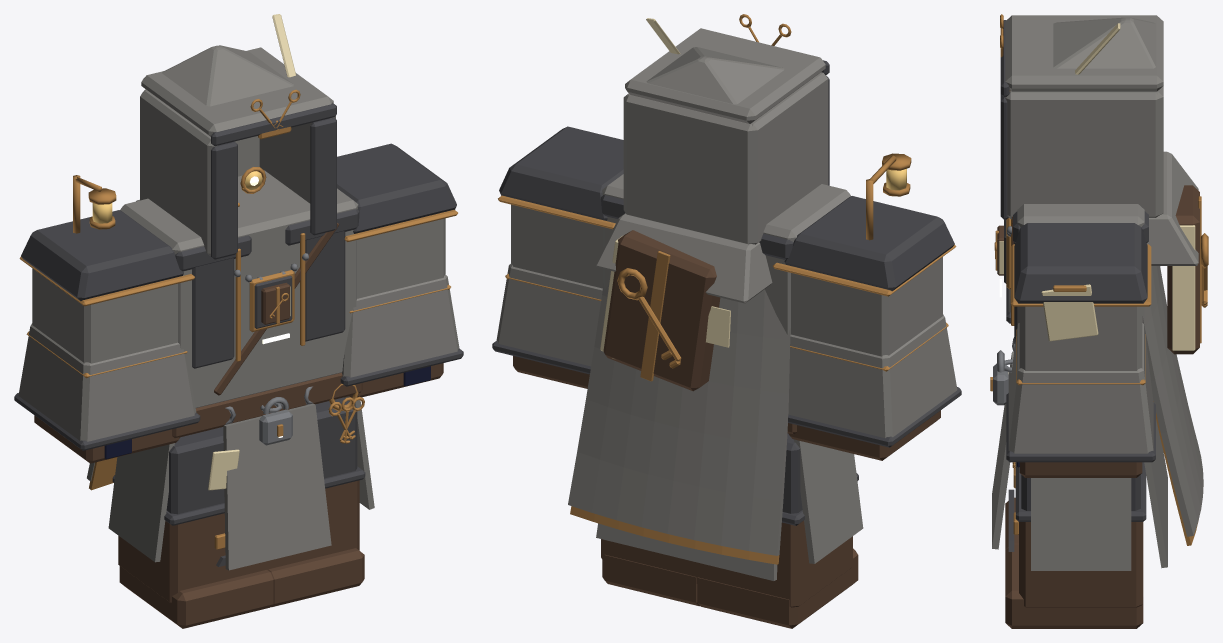
The model's file is Ledgerwarden.fbx.
3 renders of one model, left to right at view 1: azimuth 30°, elevation 25°; view 2: azimuth 150°, elevation 25°; view 3: azimuth 270°, elevation 25°, orthographic. The views are drawn at different scales.
Visible parts, largest first — view 1: Armor_Ledgerwarden_Helm_Ash_Common, Armor_Ledgerwarden_Belt_AshSway_Common, Armor_Ledgerwarden_Chest_Ash_Common, Armor_Ledgerwarden_BracerR_Ash_Common, Armor_Ledgerwarden_Chest_Darkash_Common, Armor_Ledgerwarden_PauldronR_Darkash_Common, Armor_Ledgerwarden_PauldronR_Ash_Common, Armor_Ledgerwarden_BracerL_Ash_Common, Armor_Ledgerwarden_Helm_Darkash_Common, Armor_Ledgerwarden_PauldronL_Darkash_Common, Armor_Ledgerwarden_GreaveR_Leather_Common, Armor_Ledgerwarden_PauldronL_Ash_Common (+22 smaller); view 2: Armor_Ledgerwarden_Helm_Ash_Common, Armor_Ledgerwarden_Chest_AshSway_Common, Armor_Ledgerwarden_BracerR_Ash_Common, Armor_Ledgerwarden_Chest_Leather_Rare, Armor_Ledgerwarden_PauldronR_Darkash_Common, Armor_Ledgerwarden_PauldronR_Ash_Common, Armor_Ledgerwarden_Belt_AshSway_Common, Armor_Ledgerwarden_BracerL_Ash_Common, Armor_Ledgerwarden_PauldronL_Darkash_Common, Armor_Ledgerwarden_PauldronL_Ash_Common, Armor_Ledgerwarden_GreaveR_Leather_Common, Armor_Ledgerwarden_Chest_Ash_Common (+15 smaller); view 3: Armor_Ledgerwarden_Helm_Ash_Common, Armor_Ledgerwarden_Belt_AshSway_Common, Armor_Ledgerwarden_BracerL_Ash_Common, Armor_Ledgerwarden_PauldronL_Darkash_Common, Armor_Ledgerwarden_Chest_AshSway_Common, Armor_Ledgerwarden_PauldronL_Ash_Common, Armor_Ledgerwarden_GreaveL_Leather_Common, Armor_Ledgerwarden_BootL_Leather_Common, Armor_Ledgerwarden_Chest_Ash_Common, Armor_Ledgerwarden_Chest_Parchment_Rare, Armor_Ledgerwarden_PauldronL_Parchment_Rare, Armor_Ledgerwarden_Chest_Leather_Rare (+13 smaller).
Part boxes in pixels (bbox=[...]): Armor_Ledgerwarden_Helm_Ash_Common: bbox=[136, 45, 335, 255]; Armor_Ledgerwarden_Belt_AshSway_Common: bbox=[108, 396, 374, 570]; Armor_Ledgerwarden_Chest_Ash_Common: bbox=[120, 170, 358, 407]; Armor_Ledgerwarden_BracerR_Ash_Common: bbox=[18, 323, 196, 441]; Armor_Ledgerwarden_Chest_Darkash_Common: bbox=[175, 209, 359, 368]; Armor_Ledgerwarden_PauldronR_Darkash_Common: bbox=[21, 210, 183, 301]; Armor_Ledgerwarden_PauldronR_Ash_Common: bbox=[32, 268, 177, 363]; Armor_Ledgerwarden_BracerL_Ash_Common: bbox=[342, 274, 459, 377]; Armor_Ledgerwarden_Helm_Darkash_Common: bbox=[211, 103, 336, 259]; Armor_Ledgerwarden_PauldronL_Darkash_Common: bbox=[337, 143, 456, 233]; Armor_Ledgerwarden_GreaveR_Leather_Common: bbox=[118, 513, 268, 602]; Armor_Ledgerwarden_PauldronL_Ash_Common: bbox=[357, 218, 445, 298]; Armor_Ledgerwarden_Helm_Ash_Common: bbox=[596, 28, 828, 303]; Armor_Ledgerwarden_Chest_AshSway_Common: bbox=[568, 283, 790, 555]; Armor_Ledgerwarden_BracerR_Ash_Common: bbox=[788, 314, 957, 438]; Armor_Ledgerwarden_Chest_Leather_Rare: bbox=[603, 230, 720, 391]; Armor_Ledgerwarden_PauldronR_Darkash_Common: bbox=[784, 196, 954, 291]; Armor_Ledgerwarden_PauldronR_Ash_Common: bbox=[791, 257, 942, 356]; Armor_Ledgerwarden_Belt_AshSway_Common: bbox=[596, 439, 863, 580]; Armor_Ledgerwarden_BracerL_Ash_Common: bbox=[496, 263, 602, 366]; Armor_Ledgerwarden_PauldronL_Darkash_Common: bbox=[499, 126, 623, 220]; Armor_Ledgerwarden_PauldronL_Ash_Common: bbox=[511, 204, 603, 288]; Armor_Ledgerwarden_GreaveR_Leather_Common: bbox=[696, 520, 852, 607]; Armor_Ledgerwarden_Chest_Ash_Common: bbox=[602, 174, 850, 335]; Armor_Ledgerwarden_Helm_Ash_Common: bbox=[1005, 15, 1198, 265]; Armor_Ledgerwarden_Belt_AshSway_Common: bbox=[992, 351, 1167, 570]; Armor_Ledgerwarden_BracerL_Ash_Common: bbox=[1008, 323, 1153, 453]; Armor_Ledgerwarden_PauldronL_Darkash_Common: bbox=[1014, 223, 1147, 303]; Armor_Ledgerwarden_Chest_AshSway_Common: bbox=[1142, 266, 1203, 536]; Armor_Ledgerwarden_PauldronL_Ash_Common: bbox=[1019, 306, 1142, 370]; Armor_Ledgerwarden_GreaveL_Leather_Common: bbox=[1019, 522, 1142, 607]; Armor_Ledgerwarden_BootL_Leather_Common: bbox=[1005, 544, 1143, 628]; Armor_Ledgerwarden_Chest_Ash_Common: bbox=[1017, 204, 1144, 327]; Armor_Ledgerwarden_Chest_Parchment_Rare: bbox=[998, 225, 1195, 350]; Armor_Ledgerwarden_PauldronL_Parchment_Rare: bbox=[1041, 284, 1098, 341]; Armor_Ledgerwarden_Chest_Leather_Rare: bbox=[997, 185, 1199, 354].
Size of the model in its own units: 428 by 581 by 196.
